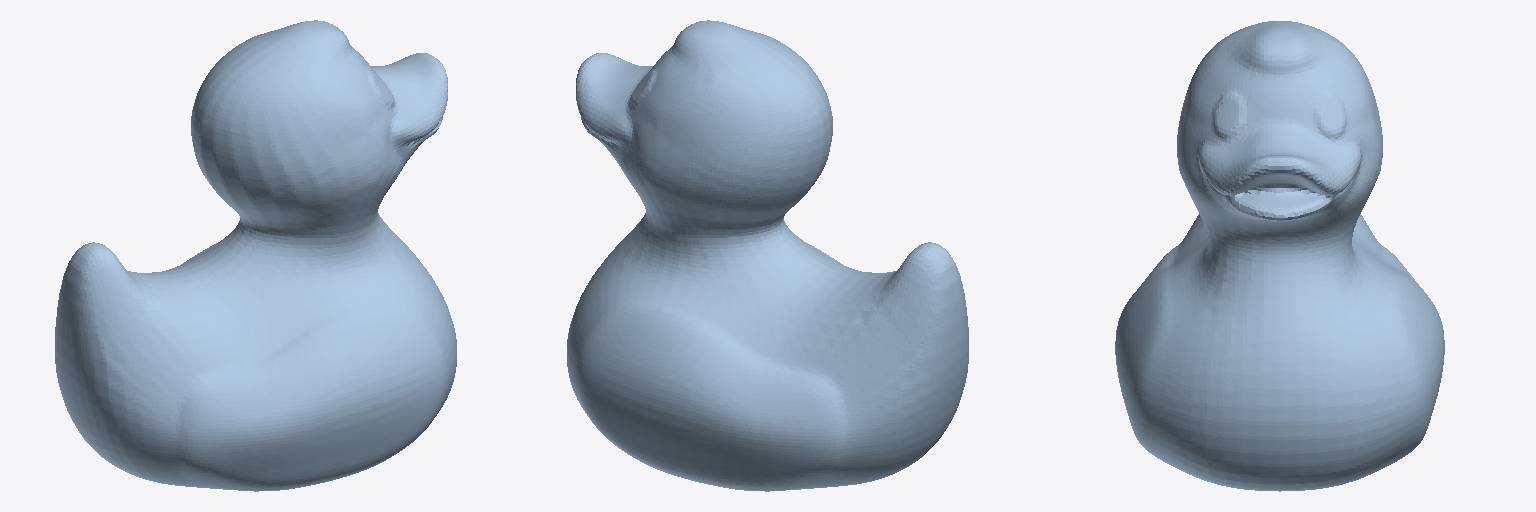
URDF robot description (duck.urdf):
<?xml version="1.0" ?>
<robot name="duck.urdf">
  <dynamics damping="0.5" friction="0.9"/>
  <link name="baseLink">
    <contact>
      <lateral_friction value="0.9"/>
      <rolling_friction value="0.5"/>
      <stiffness value="30000"/>
      <damping value="1000"/>
    </contact>
    <visual>
      <origin rpy="0 0 0" xyz="0 0 0"/>
      <geometry>
        <mesh filename="duck/duck.obj" scale="1.0 1.0 1.0"/>
      </geometry>
       <material name="mat">
        <color rgba="0.7 0.8 0.9 1"/>
      </material>
    </visual>
    <collision>
      <origin rpy="0 0 0" xyz="0 0 0"/>
      <geometry>
	 	<mesh filename="duck/duck.obj" scale="1.0 1.0 1.0"/>
      </geometry>
    </collision>
  </link>
</robot>

--- Facts derived from the render (not from the file) ---
Views: 3 orthographic renders of the robot side by side, from view 1: azimuth 30°, elevation 25°; view 2: azimuth 150°, elevation 25°; view 3: azimuth 270°, elevation 25°.
Model duck.urdf with 1 links and 0 joints (none), rooted at baseLink, posed every joint at zero.
Visible links, largest first — view 1: baseLink; view 2: baseLink; view 3: baseLink.
Link boxes in pixels (bbox=[...]): baseLink: bbox=[55, 20, 456, 491]; baseLink: bbox=[567, 20, 968, 491]; baseLink: bbox=[1115, 21, 1444, 491].
Size in the robot's own frame: 0.0912 by 0.0668 by 0.096 metres.
Meshes: 1 distinct files referenced, 1 mesh visuals loaded (1 OBJ).
